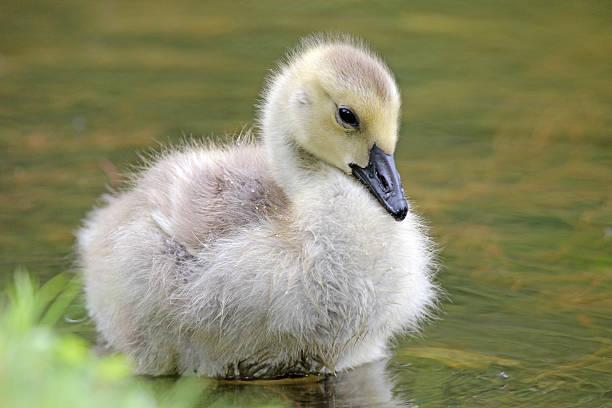Canadian-Goose: (84, 31, 437, 374)
